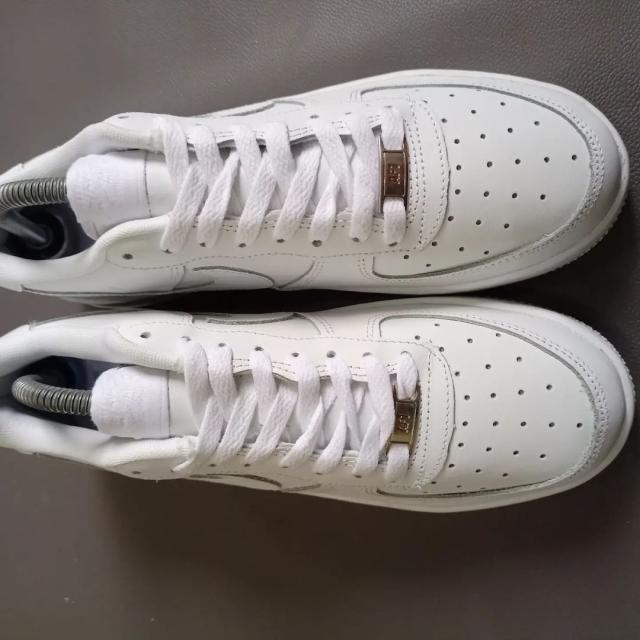nike fake air force: (0, 73, 630, 304), (0, 299, 632, 513)
